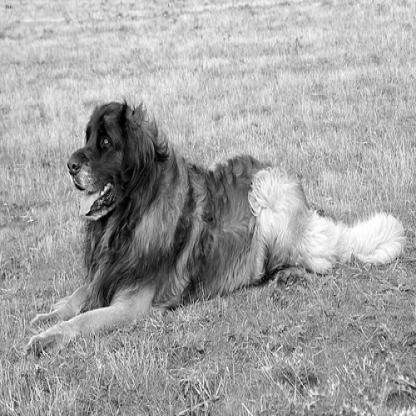Leonberger: (29, 82, 406, 366)
